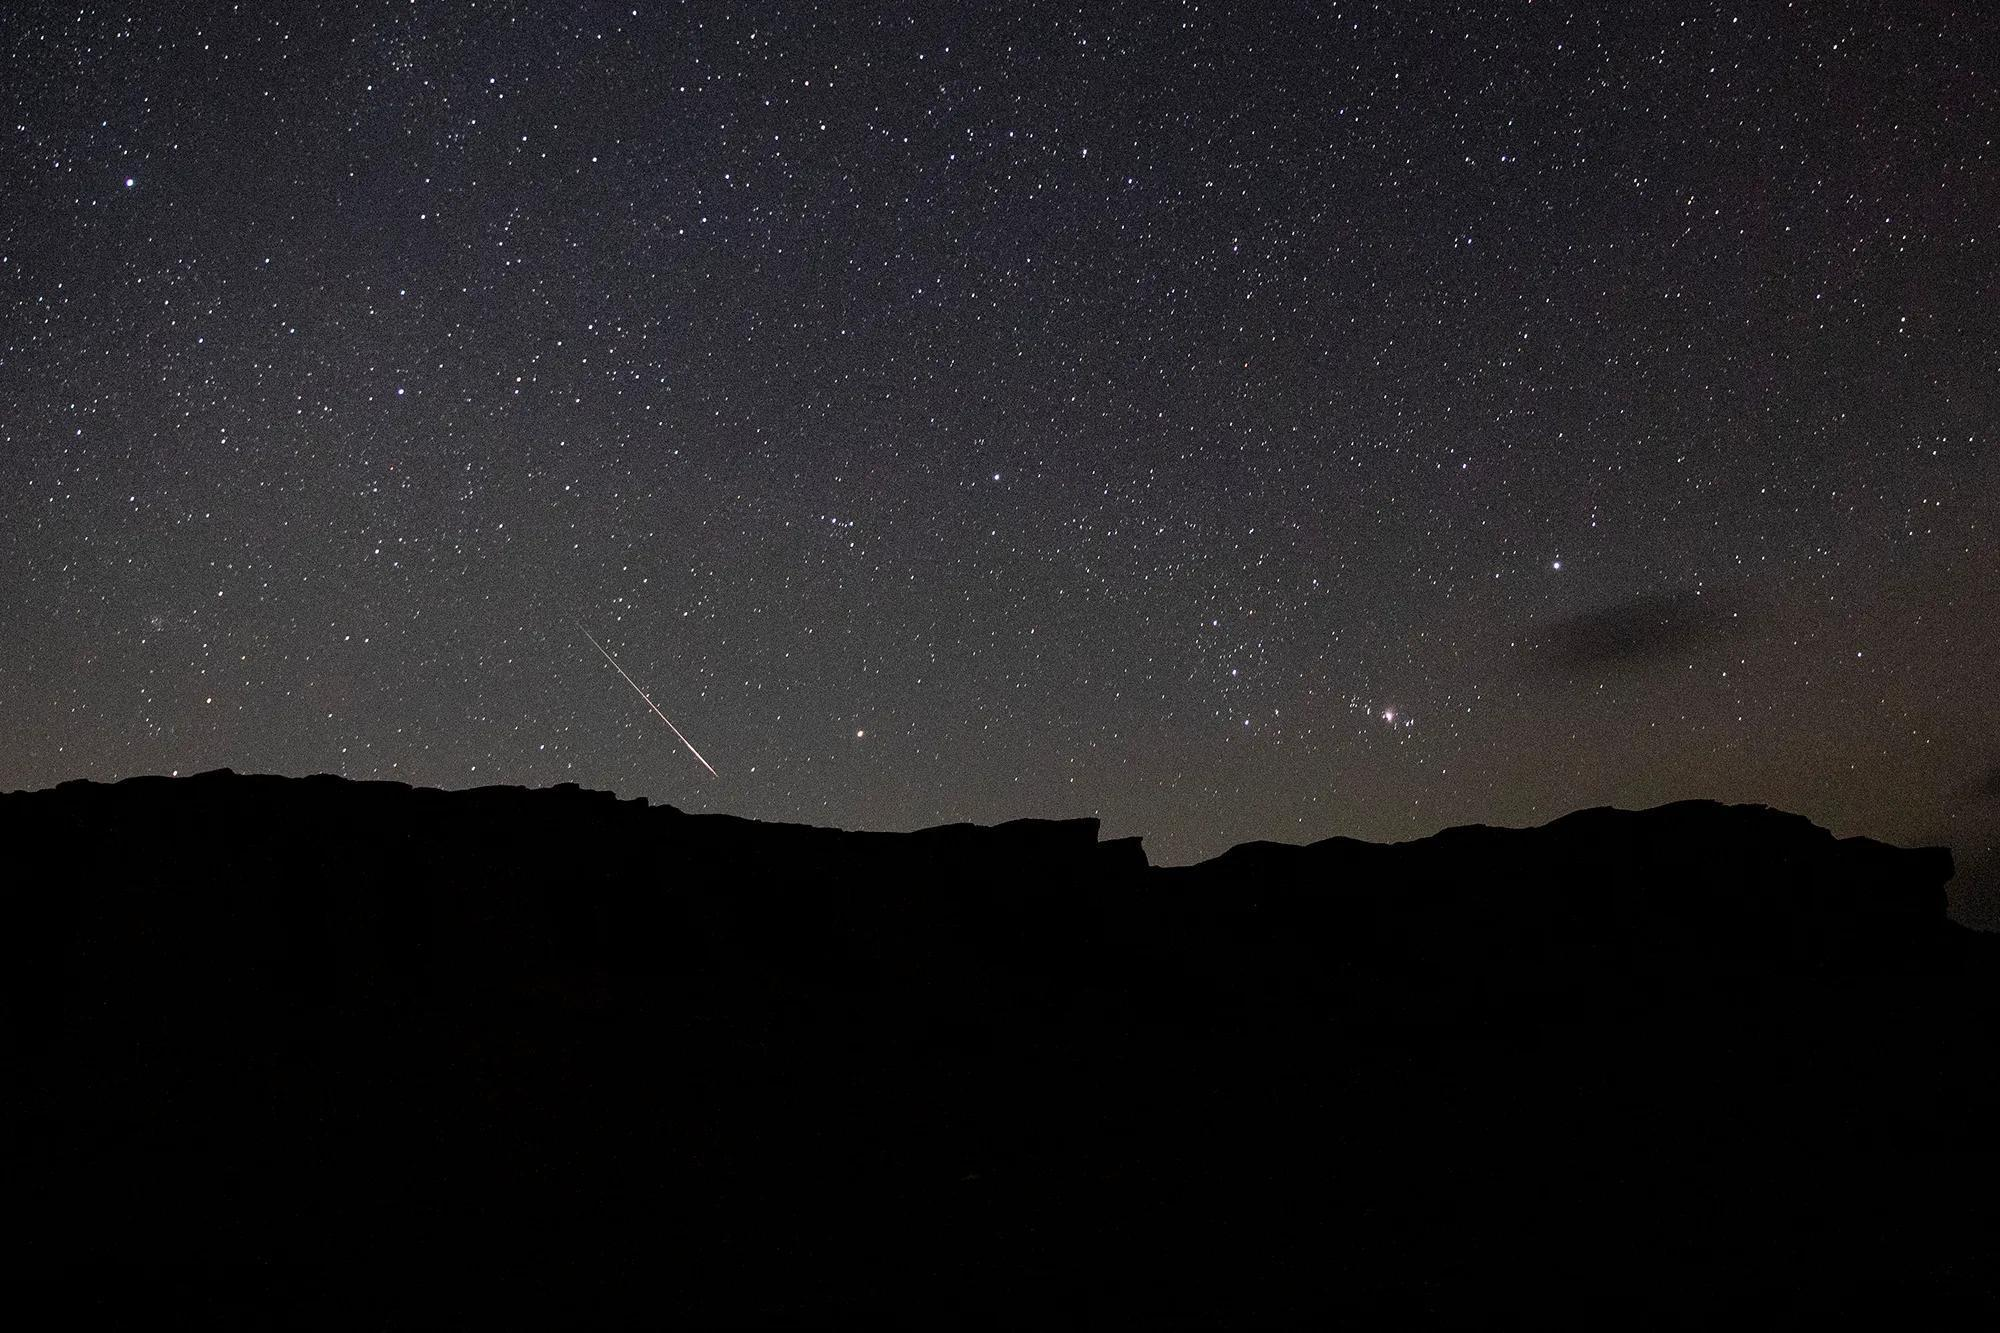meteorite: (558, 597, 746, 783)
